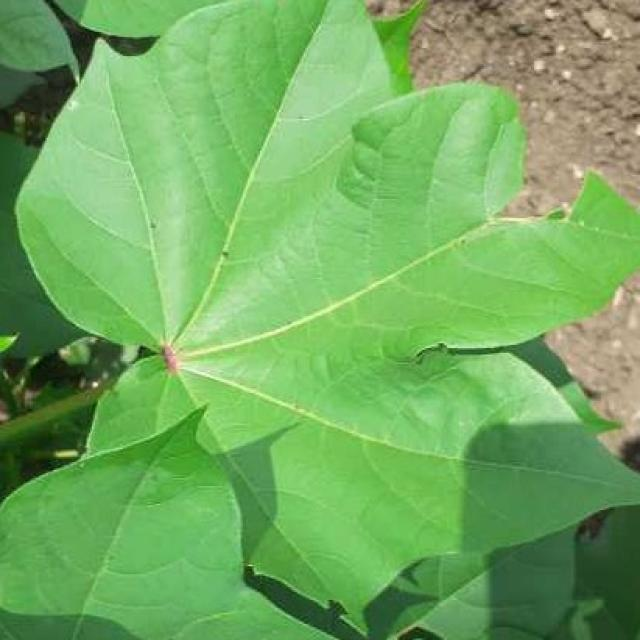Healthy Leaf: (54, 46, 461, 567)
